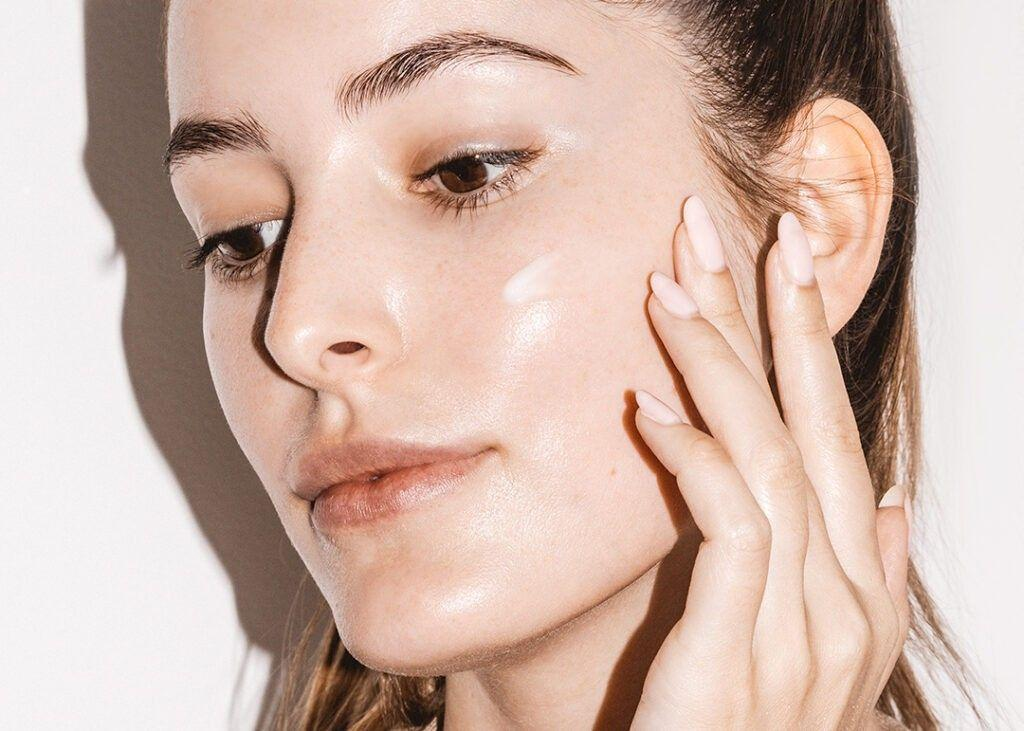Oily-Skin: (432, 232, 618, 424), (332, 552, 510, 632)
